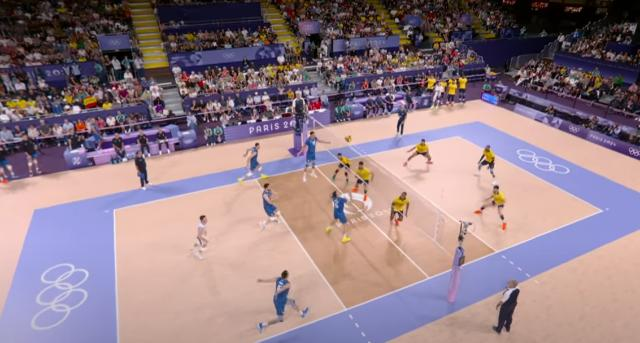Levantador: (323, 183, 355, 245), (333, 151, 351, 181)
Libero: (188, 214, 208, 260)
bola: (343, 134, 352, 144)
